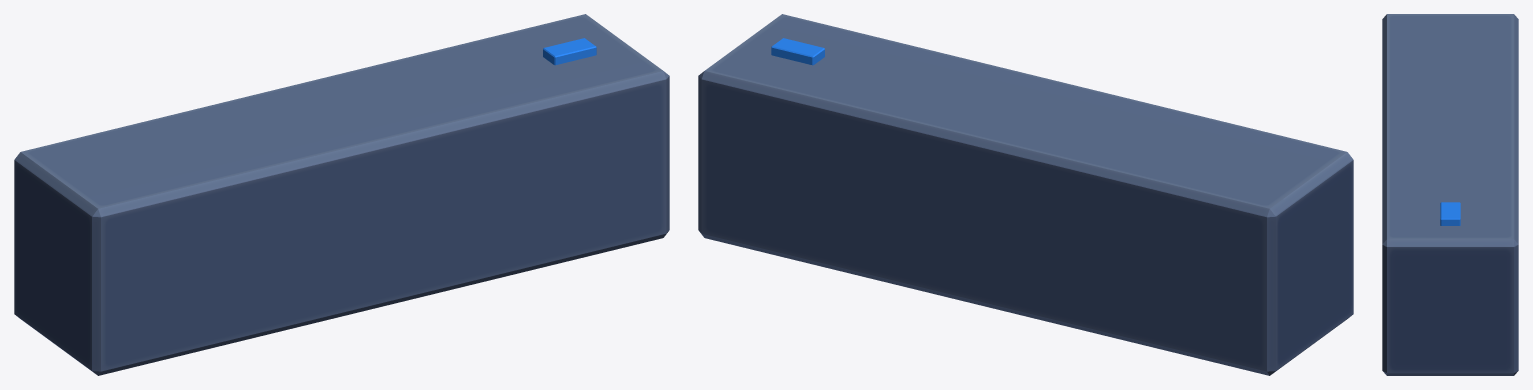
The model's file is dubai_stage_barrier_blue.fbx.
3 renders of one model, left to right at view 1: azimuth 30°, elevation 25°; view 2: azimuth 150°, elevation 25°; view 3: azimuth 270°, elevation 25°, orthographic. The views are drawn at different scales.
Parts seen in each view (by area): view 1: Cube.109; view 2: Cube.109; view 3: Cube.109.
Part boxes in pixels (left/top/right/bottom): Cube.109: left=14, top=14, right=669, bottom=375; Cube.109: left=698, top=14, right=1353, bottom=375; Cube.109: left=1382, top=14, right=1518, bottom=375.
Bounding box in the file's own units: 1052 × 306 × 263.
